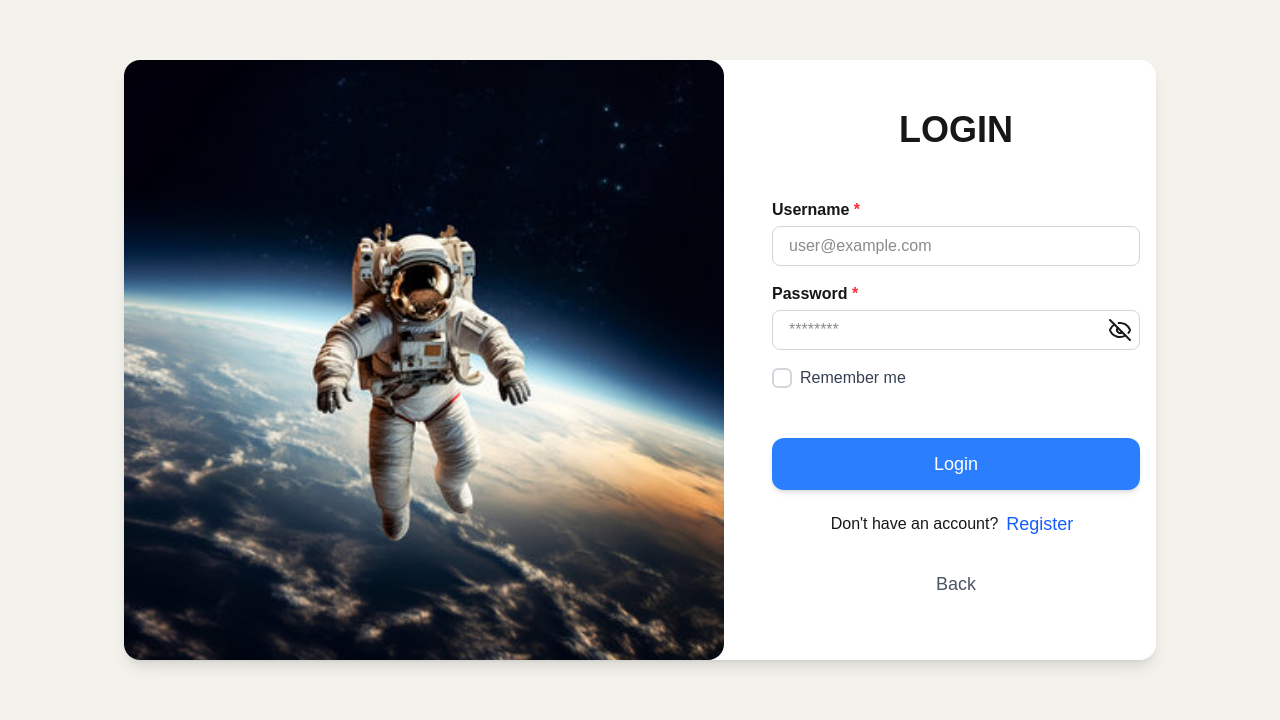
Scenario: Login Form - E2E Testing › 2. Validation - Empty Fields › 2.1. Should show error when username is empty
Step 1. Type "Password123!" into the password field named "password" → (956, 330), box [772, 310, 1140, 350]
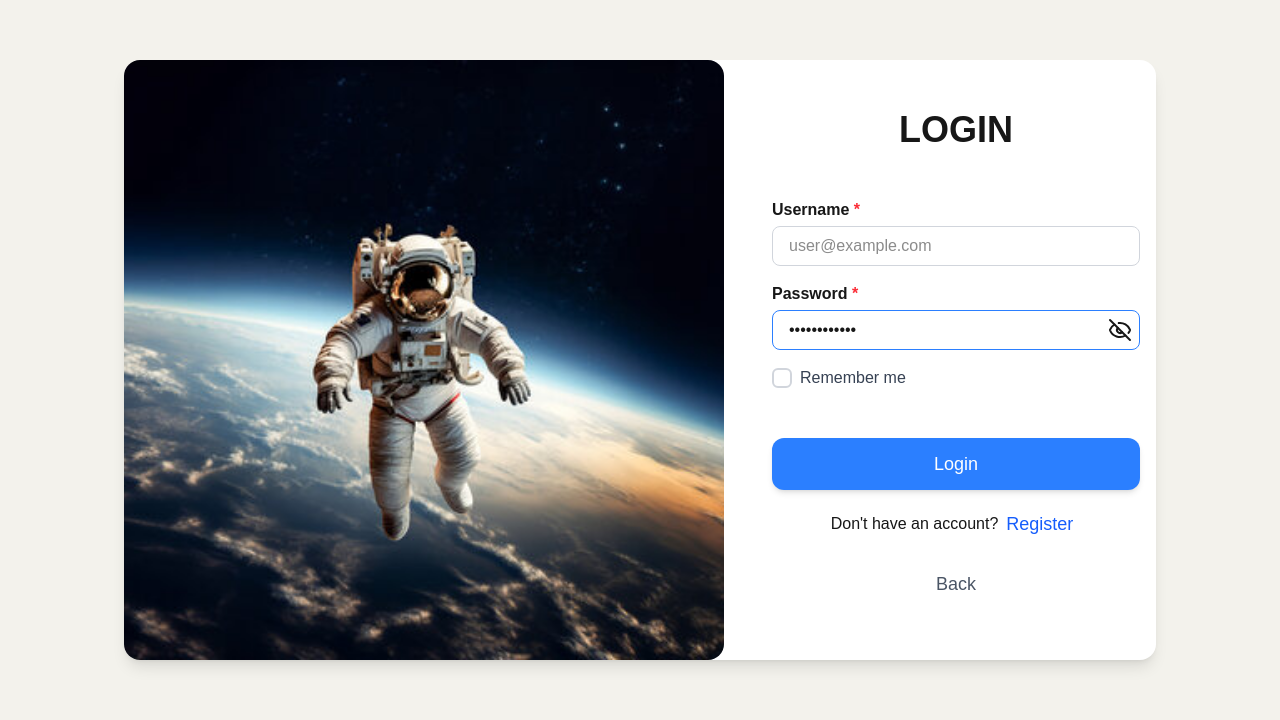
Step 2. Click the button "Login" → (956, 464), box [772, 438, 1140, 490]
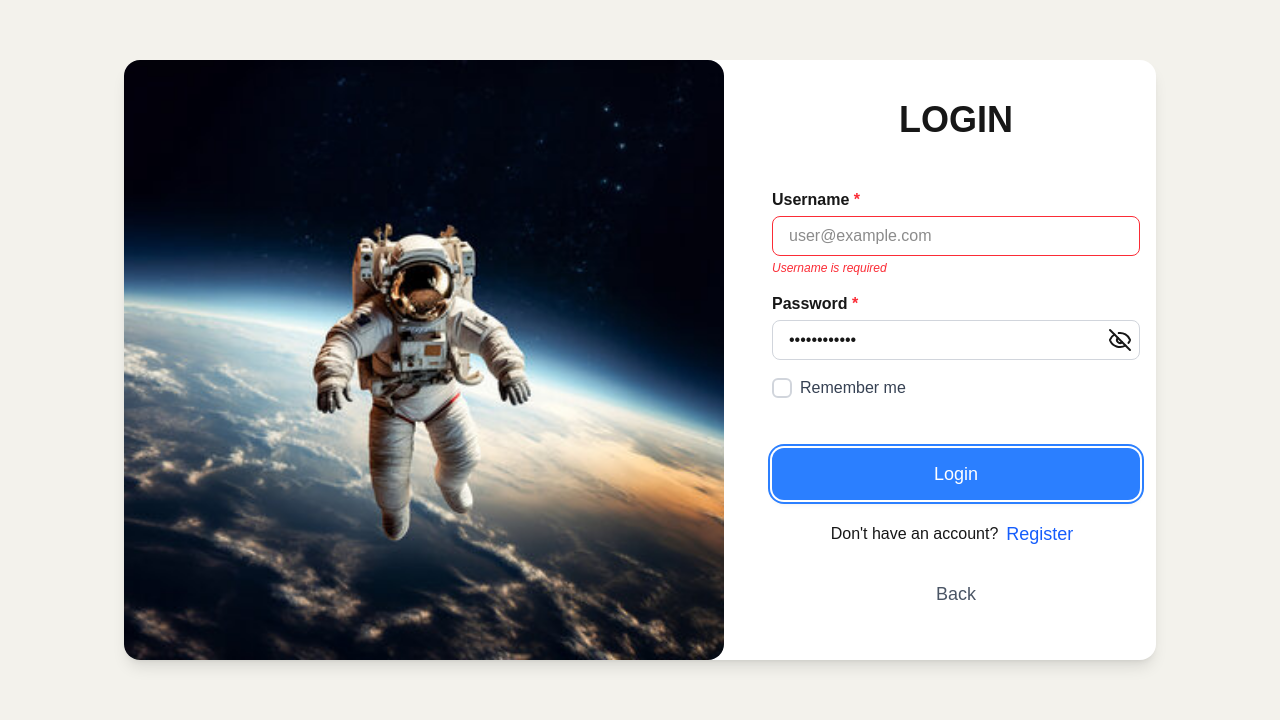
Check: the text "Username is required" is shown, box [772, 261, 887, 275]
